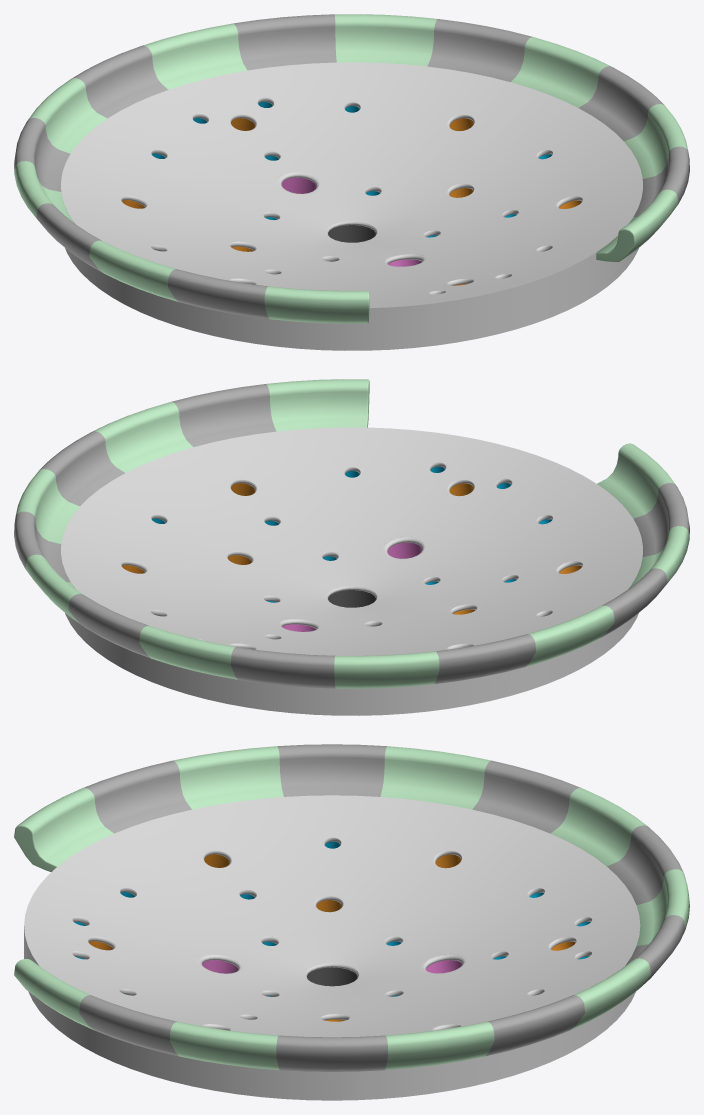
File: Roulette_Finish.fbx
3 renders of one model, top to bottom at view 1: azimuth 30°, elevation 25°; view 2: azimuth 150°, elevation 25°; view 3: azimuth 270°, elevation 25°, orthographic. The views are drawn at different scales.
Parts seen in each view (by area): view 1: Roulette_Base, Roulette_Edge; view 2: Roulette_Base, Roulette_Edge; view 3: Roulette_Base, Roulette_Edge.
Part boxes in pixels (x1,y1,x2,y2): Roulette_Base: [61, 62, 642, 350]; Roulette_Edge: [14, 14, 689, 323]; Roulette_Base: [61, 427, 642, 715]; Roulette_Edge: [14, 379, 689, 688]; Roulette_Base: [24, 795, 640, 1100]; Roulette_Edge: [14, 744, 689, 1071].
Bounding box in the file's own units: 4395 × 801 × 4152.
